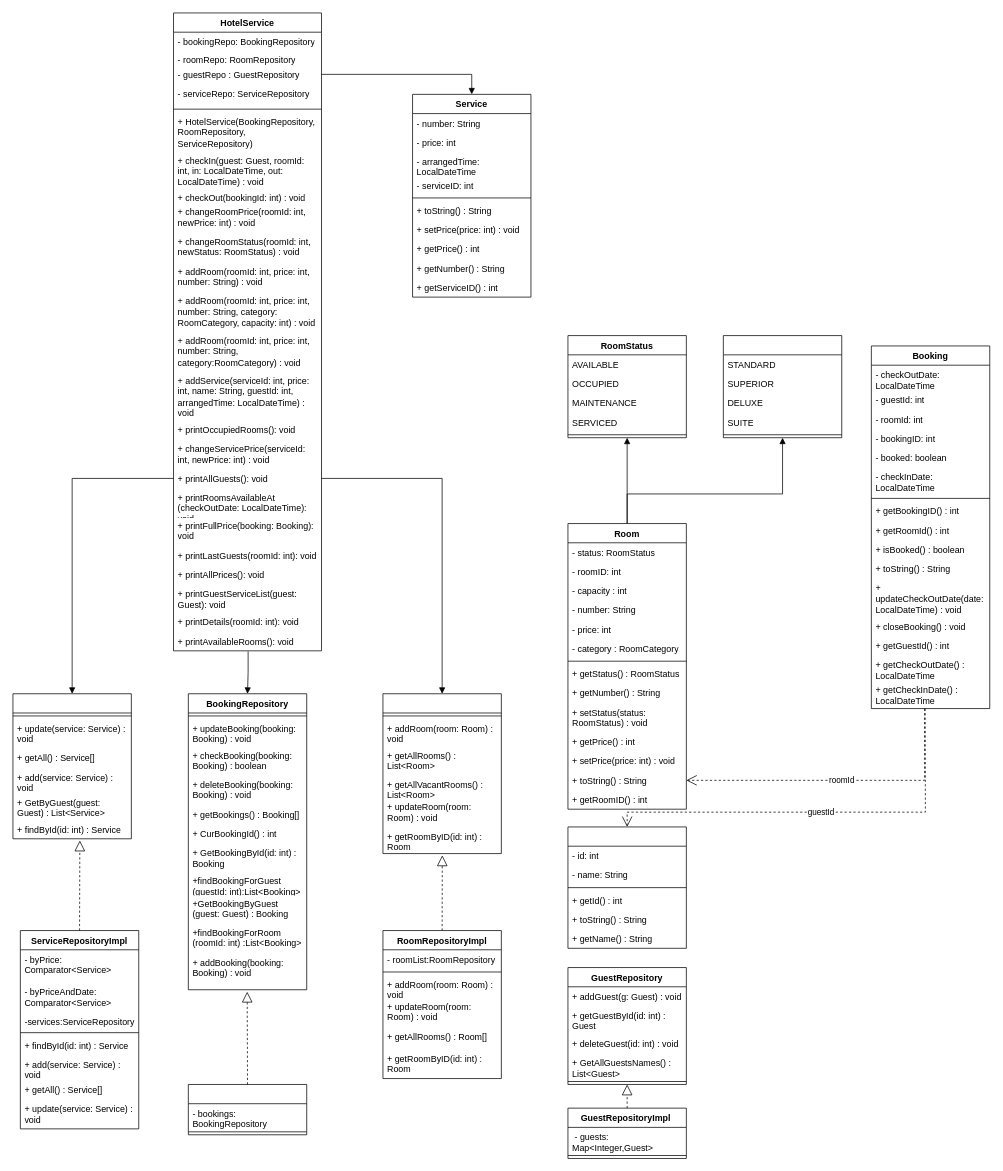
Some shapes in this 1003 by 1171 pixel diagram are drawn without their labels. Here are the shapes that lost their labels. From the top down, the box of each, then its label:
(723, 335, 842, 438): RoomCategory
(12, 693, 131, 839): ServiceRepository
(382, 693, 501, 854): RoomRepository
(567, 826, 686, 948): Guest
(188, 1084, 307, 1135): BookingRepositoryImpl
